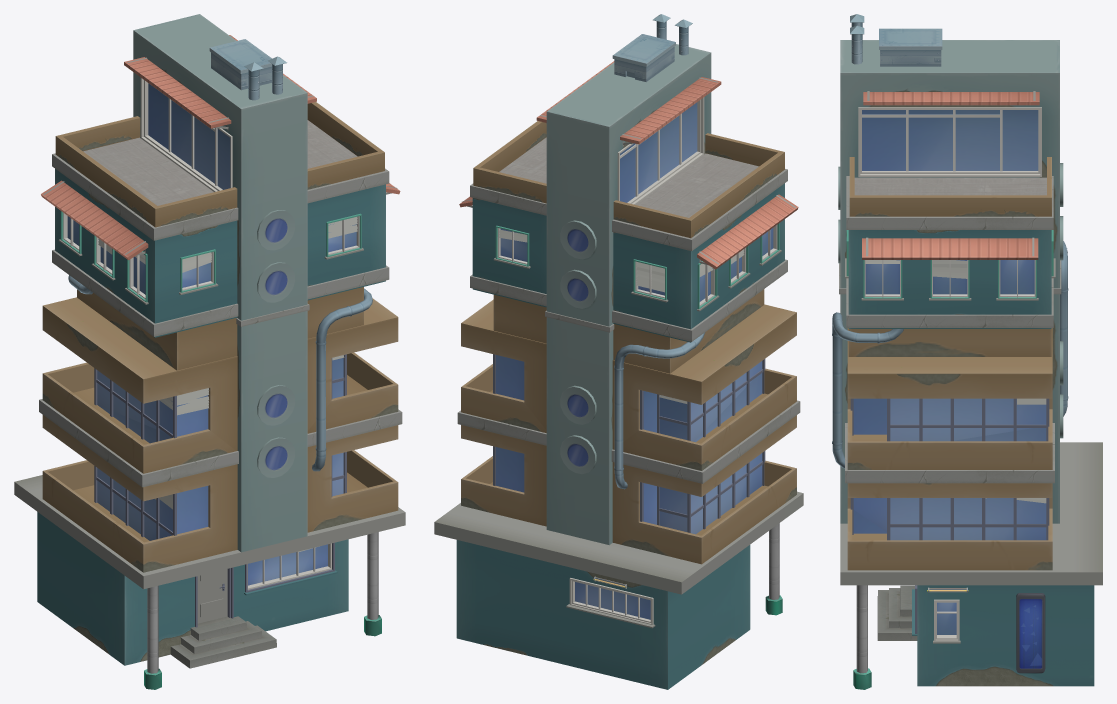
File: Building_06_2_LOD1.fbx
3 renders of one model, left to right at view 1: azimuth 30°, elevation 25°; view 2: azimuth 150°, elevation 25°; view 3: azimuth 270°, elevation 25°, orthographic. The views are drawn at different scales.
Parts seen in each view (by area): view 1: polySurface4239; view 2: polySurface4239; view 3: polySurface4239.
Part boxes in pixels (<box>): polySurface4239: <box>14,14,405,689</box>; polySurface4239: <box>434,14,803,689</box>; polySurface4239: <box>832,14,1102,689</box>.
Size of the model in its own units: 980 by 2065 by 829.
